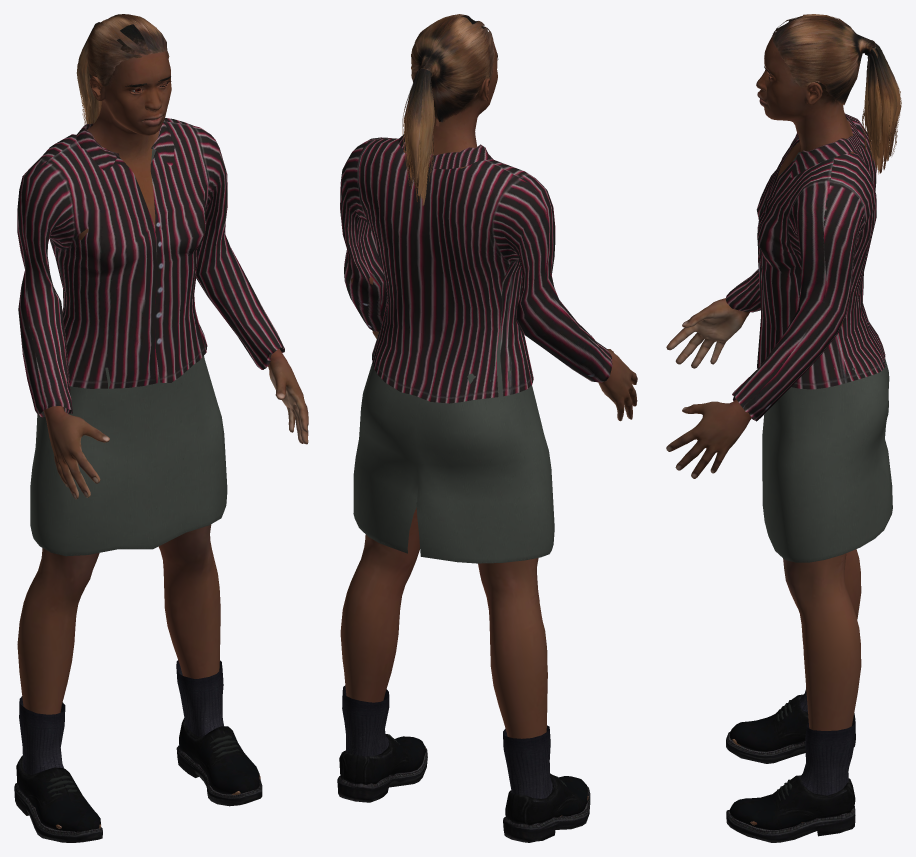
Rendered from teachmi.glb.
3 renders of one model, left to right at view 1: azimuth 30°, elevation 25°; view 2: azimuth 150°, elevation 25°; view 3: azimuth 270°, elevation 25°, orthographic. The views are drawn at different scales.
Visible parts, largest first — view 1: teachmi; view 2: teachmi; view 3: teachmi.
Part boxes in pixels (x1,y1,x2,y2): teachmi: (14,14,308,842); teachmi: (337,14,637,842); teachmi: (666,14,901,842).
Size of the model in its own units: 0.5557 by 1.7 by 0.469.
8 materials, 8 textured.
